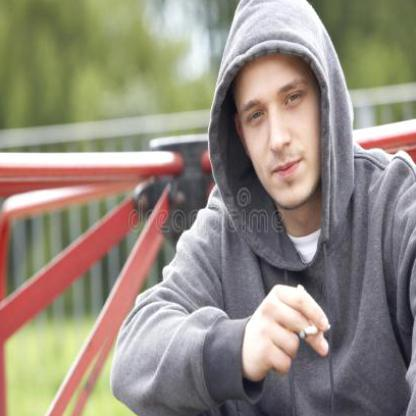cigarette: (298, 323, 332, 342)
person: (142, 0, 416, 415)
